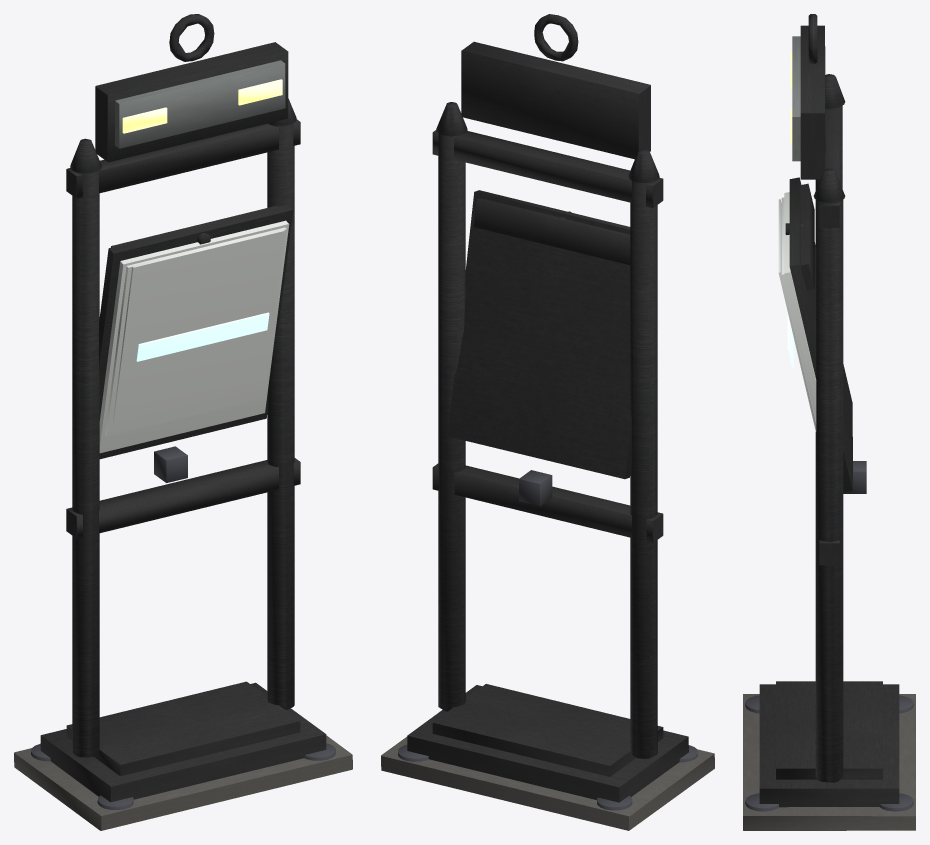
Rendered from hp_room_l01_p01.glb.
3 renders of one model, left to right at view 1: azimuth 30°, elevation 25°; view 2: azimuth 150°, elevation 25°; view 3: azimuth 270°, elevation 25°, orthographic.
Parts seen in each view (by area): view 1: room_l01_p01; view 2: room_l01_p01; view 3: room_l01_p01.
Boxes of the visible parts, x1,y1,x2,y2 form: room_l01_p01: (14,14,352,830); room_l01_p01: (381,14,714,830); room_l01_p01: (743,14,915,830).
Bounding box in the file's own units: 0.7 × 2.01 × 0.4179.
6 materials, 6 textured.
